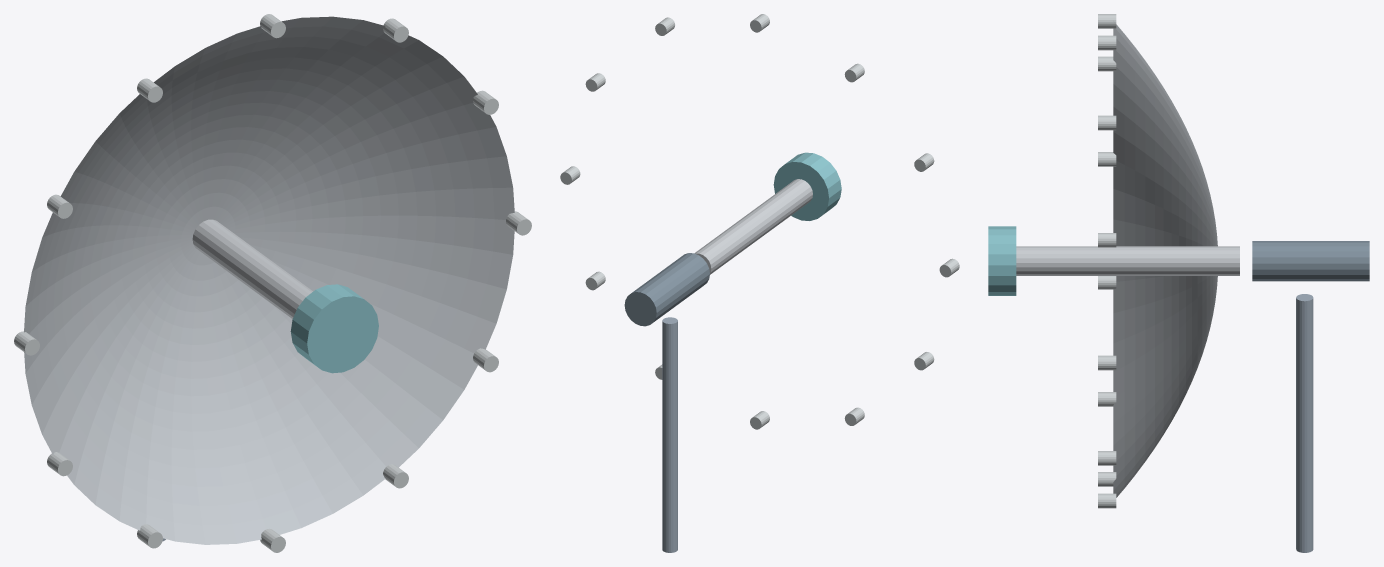
Rendered from sat_dish_healthy.glb.
The picture shows the model from 3 angles, left to right: view 1: azimuth 30°, elevation 25°; view 2: azimuth 150°, elevation 25°; view 3: azimuth 270°, elevation 25°; orthographic projection. The views are drawn at different scales.
Visible parts, largest first — view 1: parabolic_reflector, feed_horn, feed_strut; view 2: mount_spine, feed_strut, feed_hub, feed_horn; view 3: parabolic_reflector, feed_strut, feed_hub, mount_spine, feed_horn.
Boxes of the visible parts, left/top/right/bottom form: parabolic_reflector: left=24, top=16, right=514, bottom=544; feed_horn: left=290, top=284, right=378, bottom=373; feed_strut: left=192, top=219, right=312, bottom=318; mount_spine: left=662, top=317, right=677, bottom=552; feed_strut: left=694, top=179, right=812, bottom=274; feed_hub: left=624, top=253, right=709, bottom=326; feed_horn: left=773, top=152, right=841, bottom=220; parabolic_reflector: left=1113, top=21, right=1217, bottom=497; feed_strut: left=1016, top=246, right=1239, bottom=275; feed_hub: left=1252, top=241, right=1369, bottom=281; mount_spine: left=1296, top=294, right=1313, bottom=552; feed_horn: left=988, top=226, right=1016, bottom=295.
Bounding box in the file's own units: 0.804 × 0.917 × 0.6175.
